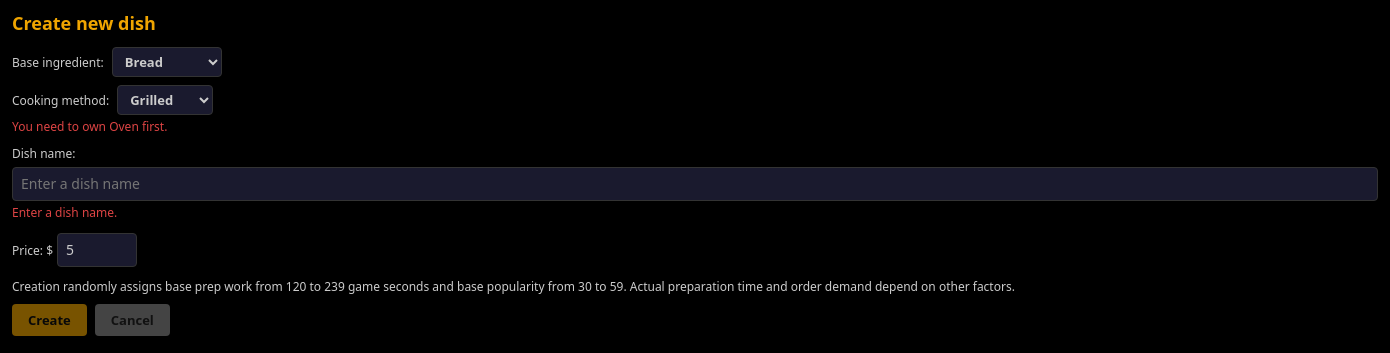
RecipeCreator validation guidance › shows unowned-equipment guidance and updates it for the selected method
The image size is (1390, 353).
Check: the text "You need to own Oven first." is shown, box [12,118,167,134]
Select "Blended" in the dropdown labelled "Cooking method:" at (165, 100), box [117,84,213,114]
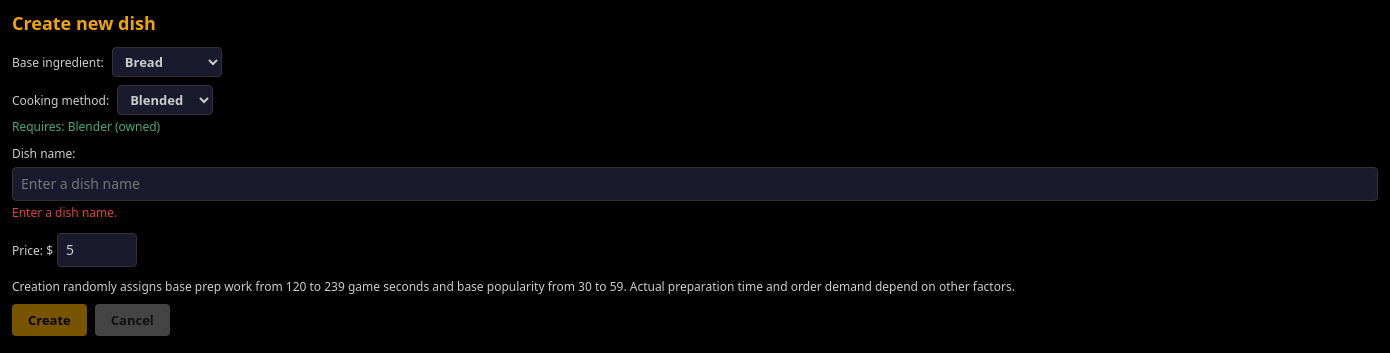
Check: the text "You need to own Oven first." is gone
Check: the text "Requires: Blender (owned)" is shown, box [12,118,160,134]
